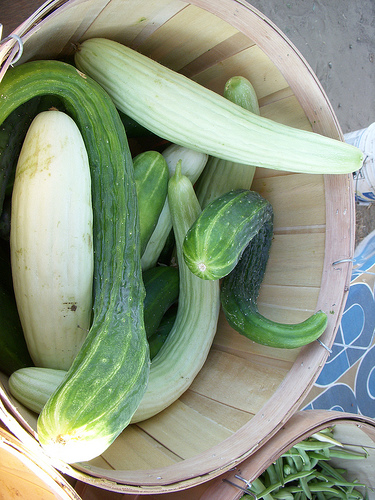cucumber: (0, 60, 152, 466), (177, 185, 328, 350), (133, 147, 171, 258)
